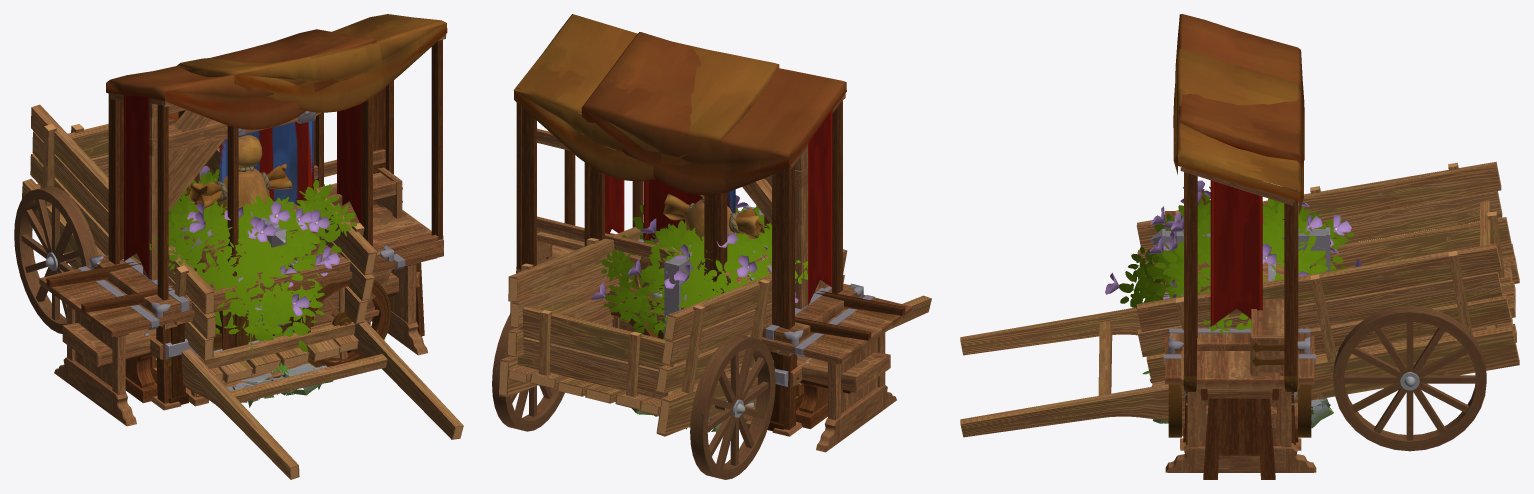
Rendered from village_props.glb.
3 renders of one model, left to right at view 1: azimuth 30°, elevation 25°; view 2: azimuth 150°, elevation 25°; view 3: azimuth 270°, elevation 25°, orthographic. The views are drawn at different scales.
Parts seen in each view (by area): view 1: Prop_Wagon, Stall_Cart_Empty, Stall_Empty, Bush_Common, Table_Large, Banner_2, Workbench, Banner_1, Bench, Dummy, Bush_Common_Flowers, Crate_Wooden (+3 smaller); view 2: Prop_Wagon, Stall_Empty, Stall_Cart_Empty, Bush_Common, Table_Large, Banner_1, Bench, Workbench, Dummy, Banner_2, Bush_Common_Flowers, Lantern_Wall (+1 smaller); view 3: Prop_Wagon, Stall_Cart_Empty, Stall_Empty, Bush_Common, Table_Large, Workbench, Bush_Common_Flowers, Lantern_Wall.
Part boxes in pixels (x1,y1,x2,y2): Prop_Wagon: (14, 104, 463, 479); Stall_Cart_Empty: (46, 14, 447, 368); Stall_Empty: (106, 29, 376, 410); Bush_Common: (149, 169, 356, 355); Table_Large: (39, 205, 443, 426); Banner_2: (149, 111, 320, 280); Workbench: (89, 221, 393, 404); Banner_1: (143, 103, 313, 280); Bench: (62, 272, 419, 403); Dummy: (188, 135, 292, 214); Bush_Common_Flowers: (187, 166, 339, 316); Crate_Wooden: (215, 258, 313, 386); Prop_Wagon: (492, 226, 931, 479); Stall_Empty: (581, 32, 846, 436); Stall_Cart_Empty: (513, 14, 905, 340); Bush_Common: (601, 205, 807, 339); Table_Large: (608, 233, 912, 452); Banner_1: (643, 147, 810, 309); Bench: (796, 352, 890, 429); Workbench: (606, 278, 863, 431); Dummy: (663, 194, 764, 240); Banner_2: (651, 167, 807, 308); Bush_Common_Flowers: (591, 195, 798, 316); Lantern_Wall: (664, 206, 754, 335); Prop_Wagon: (960, 161, 1519, 451); Stall_Cart_Empty: (1168, 48, 1311, 479); Stall_Empty: (1175, 14, 1304, 450); Bush_Common: (1119, 186, 1354, 334); Table_Large: (1163, 211, 1316, 472); Workbench: (1168, 286, 1310, 442); Bush_Common_Flowers: (1105, 180, 1362, 299); Lantern_Wall: (1150, 227, 1330, 271).
Size of the model in its own units: 3.02 by 2.68 by 4.02.
12 materials, 12 textured.
